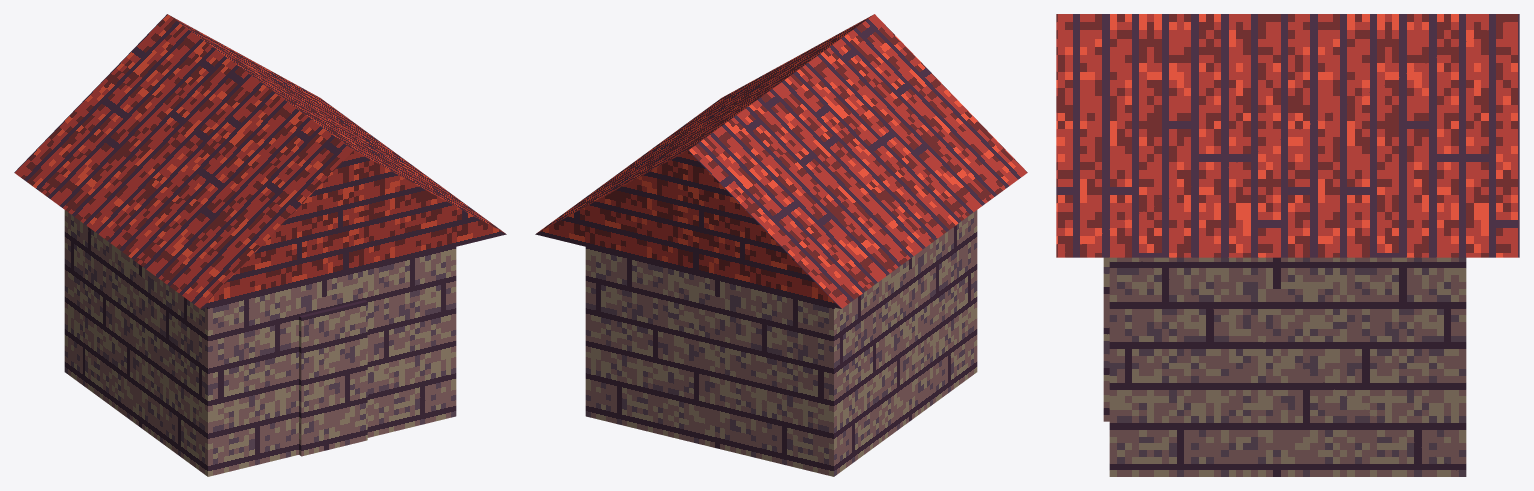
Rendered from a34_telhado_plano.glb.
The picture shows the model from 3 angles, left to right: view 1: azimuth 30°, elevation 25°; view 2: azimuth 150°, elevation 25°; view 3: azimuth 270°, elevation 25°; orthographic projection. The views are drawn at different scales.
Visible parts, largest first — view 1: a34_telhado_plano; view 2: a34_telhado_plano; view 3: a34_telhado_plano.
Boxes of the visible parts, bbox=[...] form: a34_telhado_plano: bbox=[14, 14, 506, 476]; a34_telhado_plano: bbox=[535, 14, 1027, 476]; a34_telhado_plano: bbox=[1056, 14, 1519, 476].
Size of the model in its own units: 3.7 by 3.6 by 3.9.
Materials: 2 (2 with a texture image).
